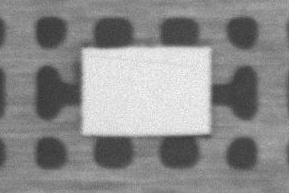DIE_CRACK: (127, 37, 289, 44)
